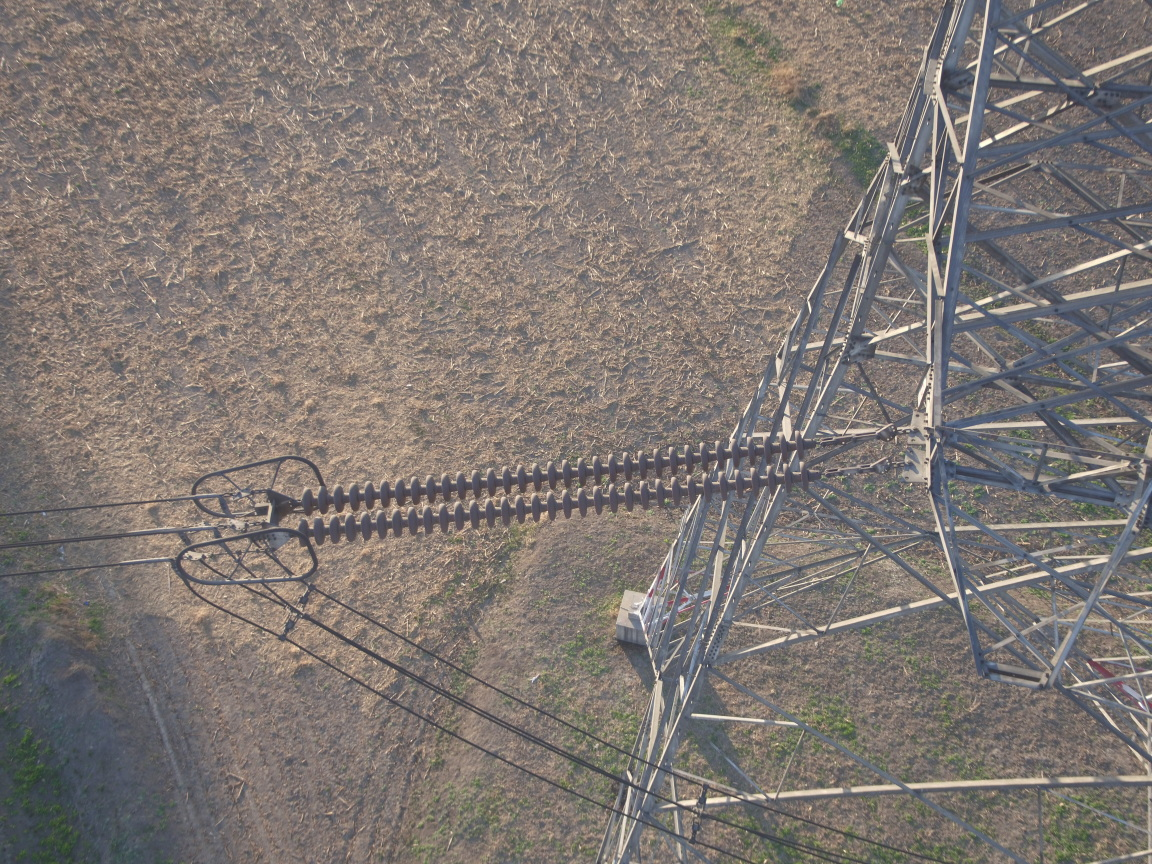insulator: (279, 427, 861, 552)
